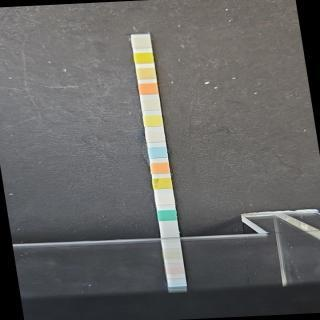mark: (152, 177, 172, 190), (150, 161, 170, 174), (131, 37, 152, 49), (148, 146, 168, 158), (145, 130, 165, 142), (136, 68, 156, 80), (144, 114, 163, 126), (133, 53, 153, 64), (156, 194, 174, 206), (142, 98, 160, 110), (139, 83, 158, 94), (158, 210, 176, 220)
